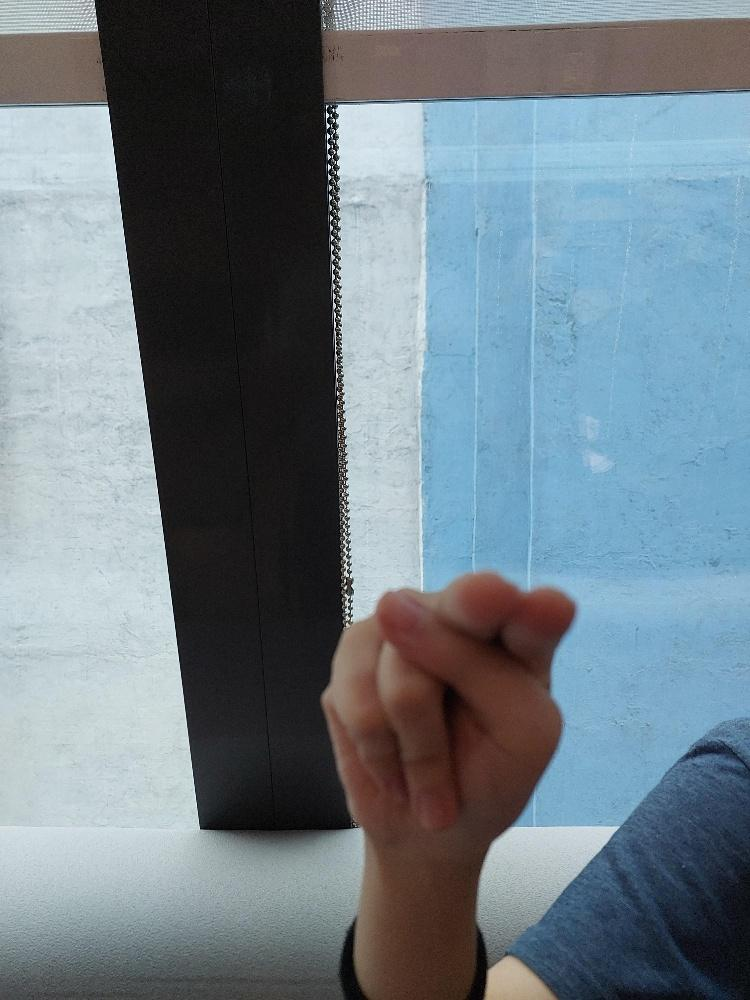n: (319, 569, 577, 844)
